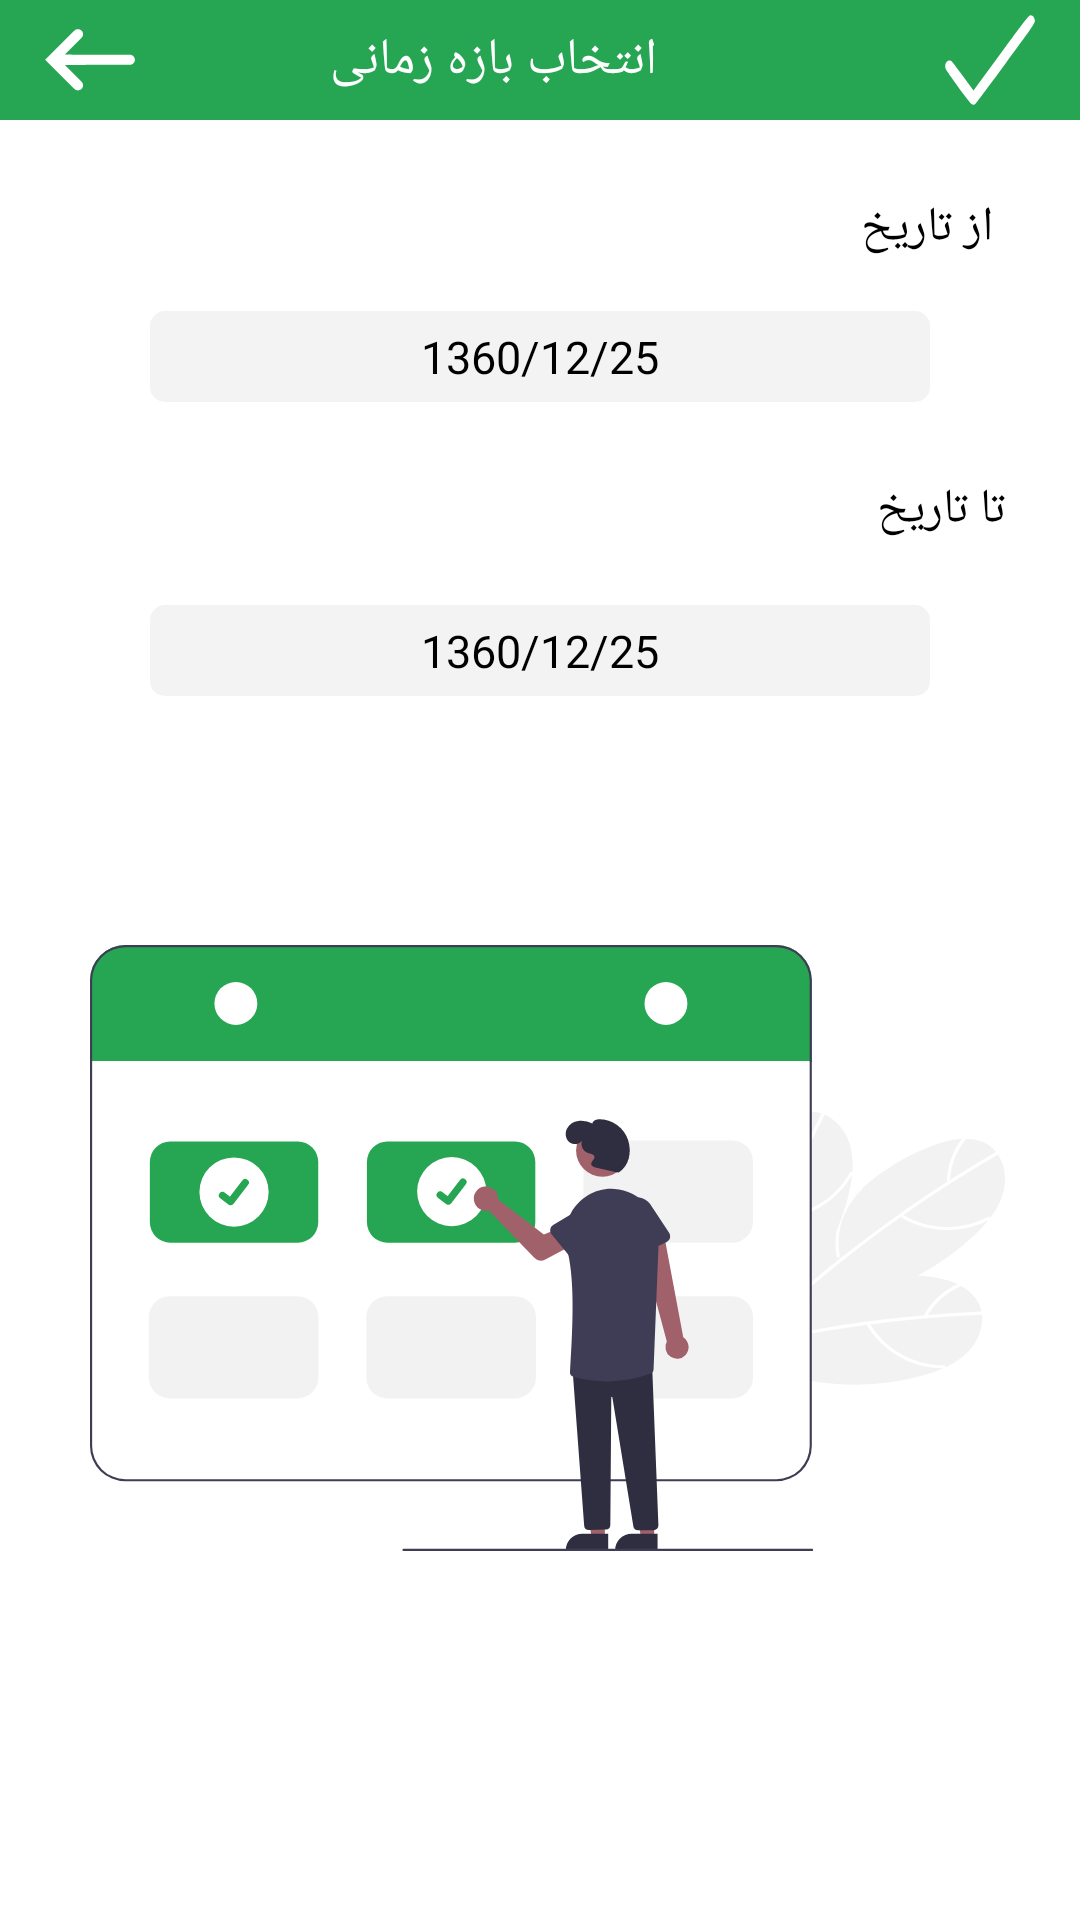

Screen size 1080px×1920px. Icon name, then its center in pixels as (x=x, y=y):
backwhite: (x=90, y=60)
whitecheck: (x=990, y=60)
